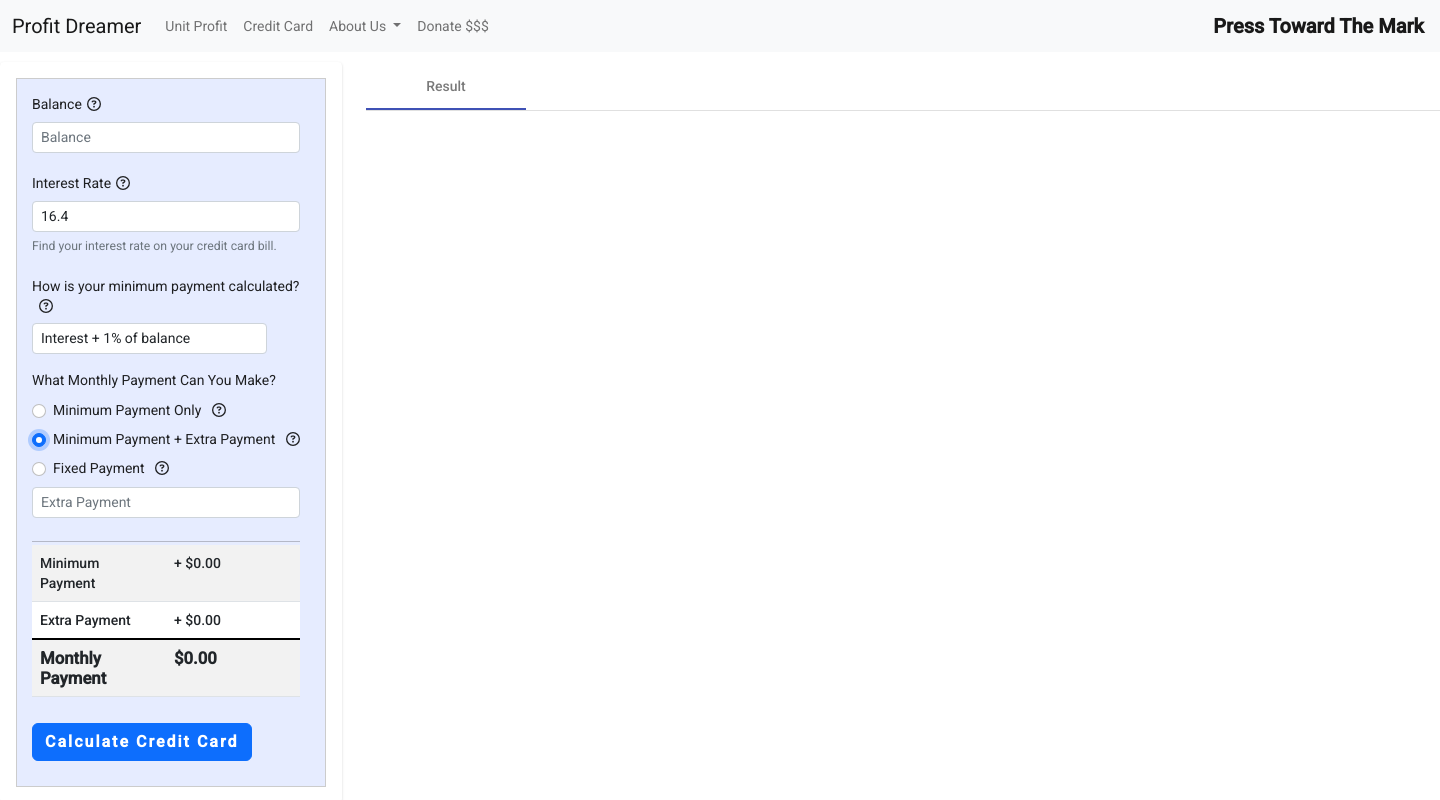
it: cc-payment-input-visibility.cy.ts › click Fixed Payment › payment input container should be visible
Click the radio button next to "Fixed Payment" at (39, 469), box [32,462,46,476]
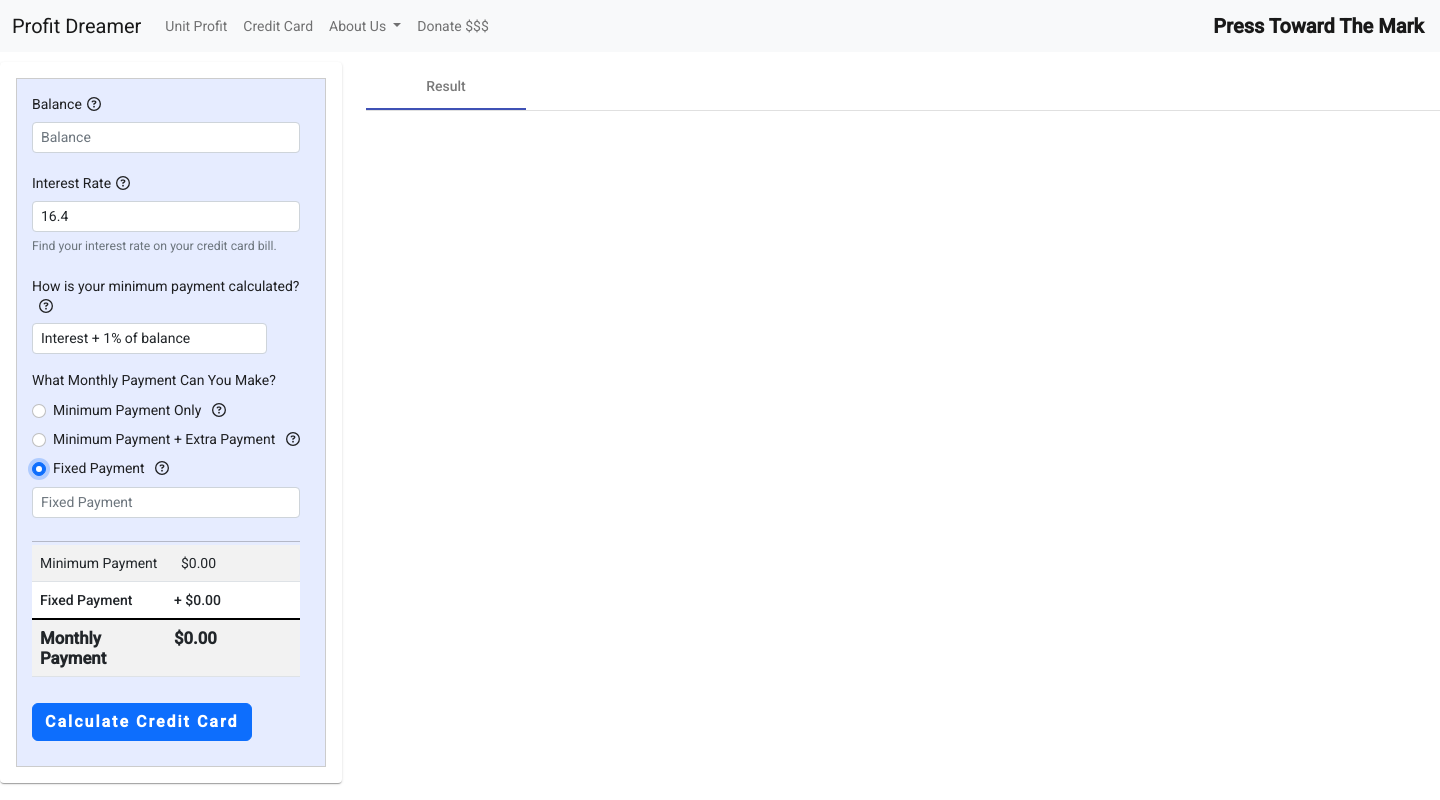
expect the field with id "fixed-payment" is shown: met, box [32,487,300,518]
expect the field with id "extra-payment" is gone: met
